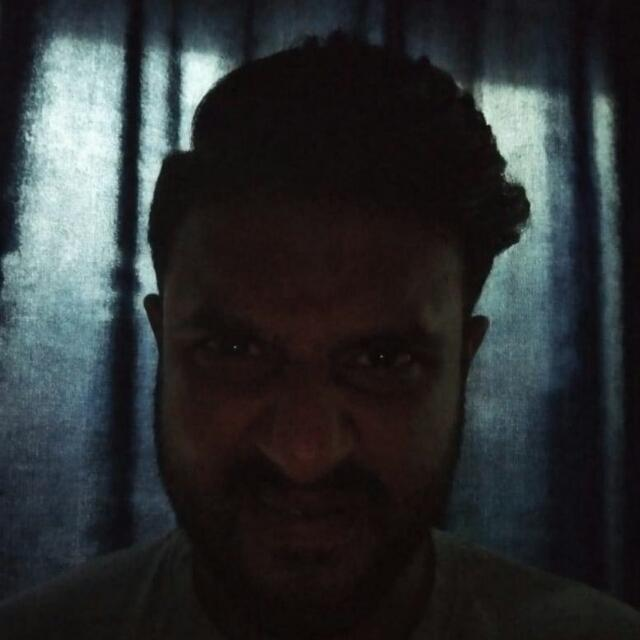Disgust: (83, 153, 515, 617)
